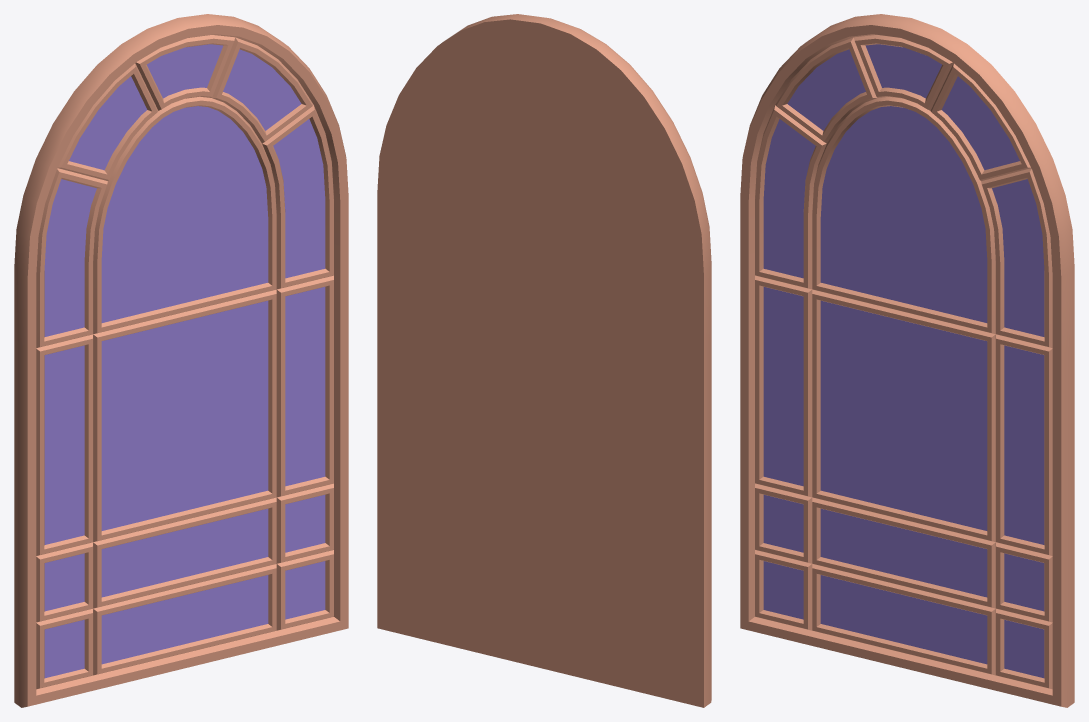
The model's file is SP_House10_Window03.fbx.
3 views of the same model, side by side, from view 1: azimuth 30°, elevation 25°; view 2: azimuth 150°, elevation 25°; view 3: azimuth 330°, elevation 25° (orthographic).
Parts seen in each view (by area): view 1: SP_House10_Window03; view 2: SP_House10_Window03; view 3: SP_House10_Window03.
Part boxes in pixels (left/top/right/bottom): SP_House10_Window03: left=14, top=14, right=348, bottom=707; SP_House10_Window03: left=377, top=14, right=711, bottom=707; SP_House10_Window03: left=740, top=14, right=1074, bottom=707.
Size of the model in its own units: 1.14 by 2.15 by 0.0649.
